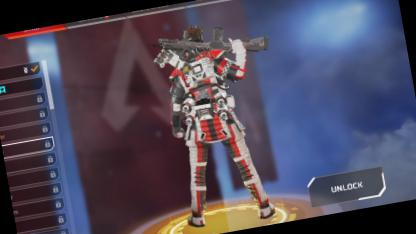Target: (167, 43, 252, 186)
